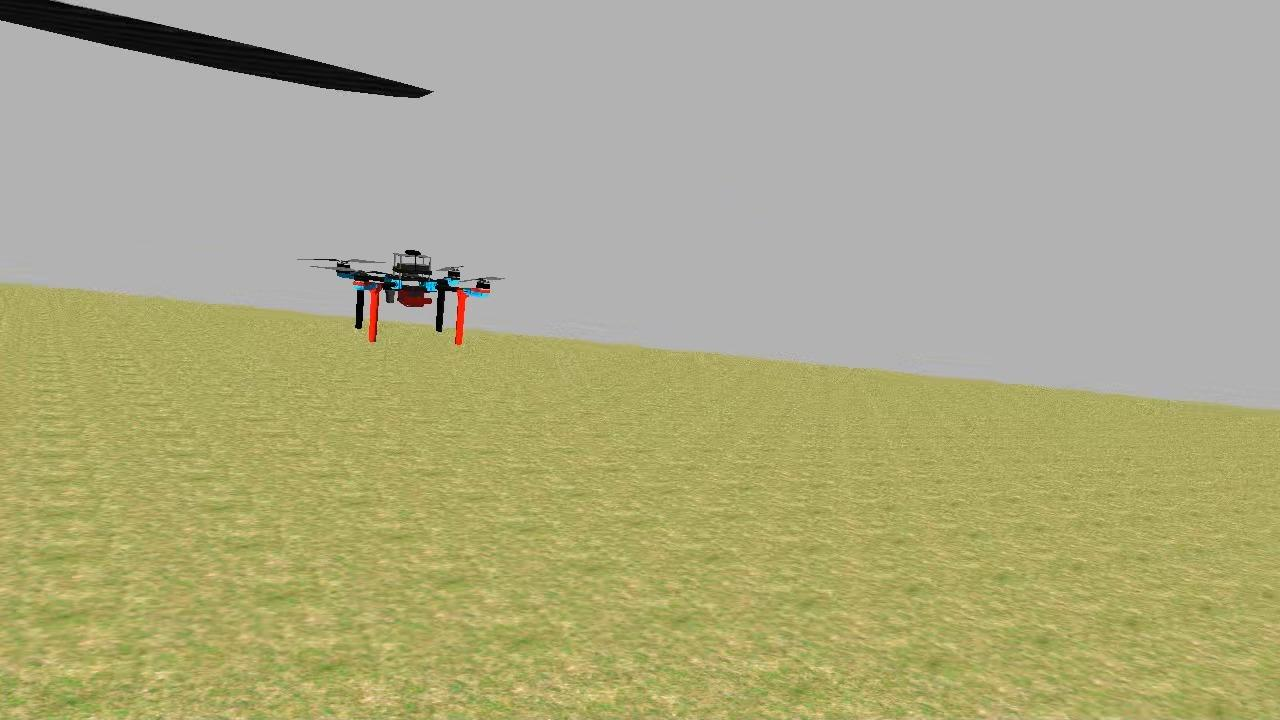UAV: (329, 242, 500, 347)
